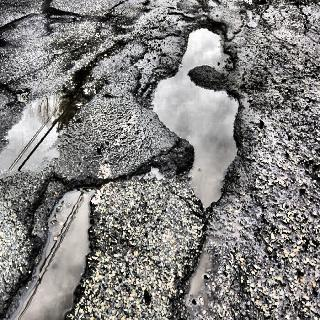crack: (106, 160, 154, 190), (294, 2, 320, 45)
pothole: (144, 17, 242, 218), (1, 173, 106, 320), (170, 185, 280, 318), (3, 80, 31, 114), (231, 11, 251, 41), (196, 0, 221, 9)
